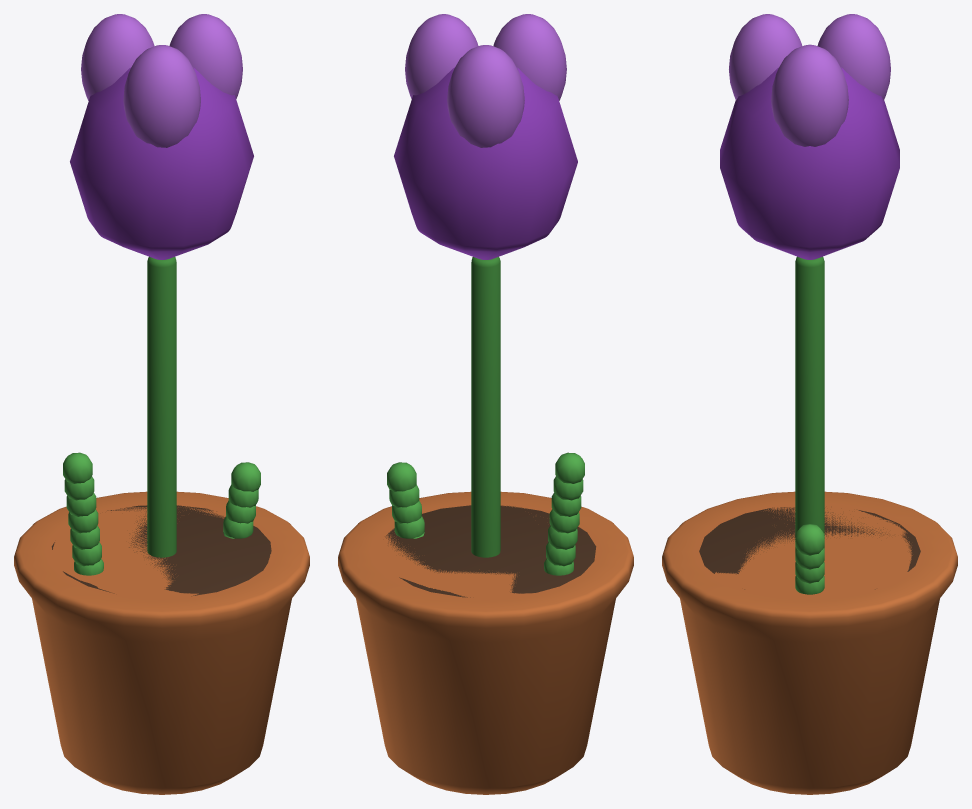
Rendered from tulip_purple.glb.
3 renders of one model, left to right at view 1: azimuth 30°, elevation 25°; view 2: azimuth 150°, elevation 25°; view 3: azimuth 270°, elevation 25°, orthographic.
Visible parts, largest first — view 1: tulip_purple; view 2: tulip_purple; view 3: tulip_purple.
Boxes of the visible parts, box(x1,y1,x2,y2) form: tulip_purple: box(14, 14, 309, 794); tulip_purple: box(338, 14, 633, 794); tulip_purple: box(662, 14, 957, 794).
Bounding box in the file's own units: 0.76 × 2.09 × 0.76.
